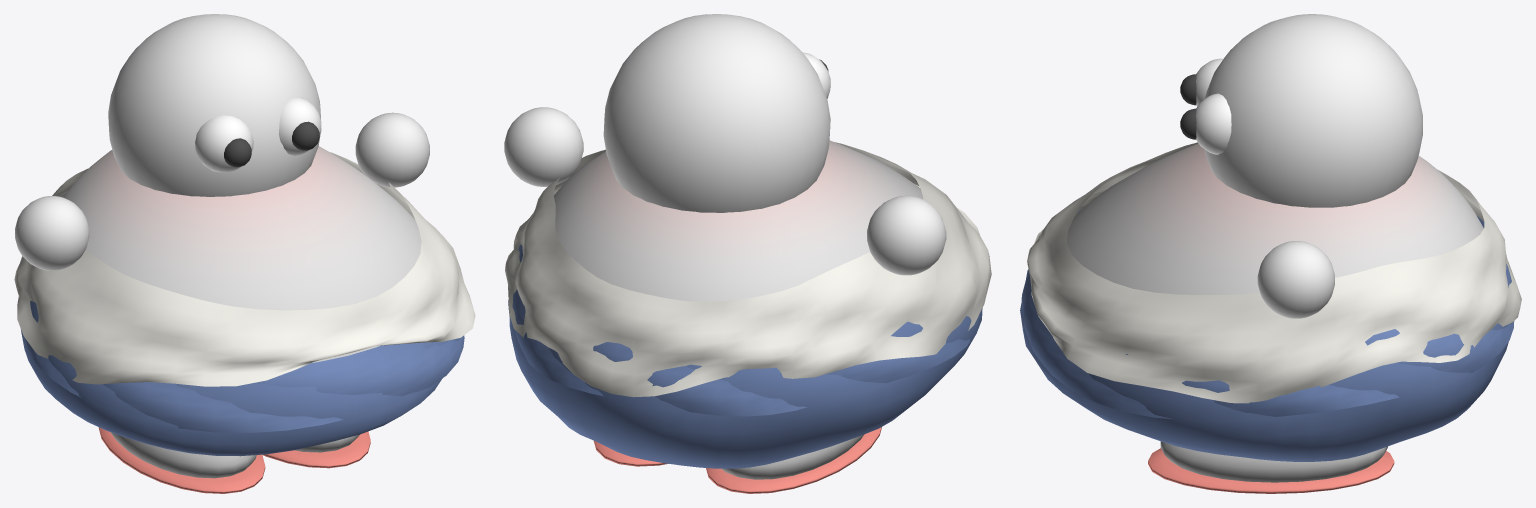
The model's file is blob_gumdrop_clay.glb.
The picture shows the model from 3 angles, left to right: view 1: azimuth 30°, elevation 25°; view 2: azimuth 150°, elevation 25°; view 3: azimuth 270°, elevation 25°; orthographic projection. The views are drawn at different scales.
Parts seen in each view (by area): view 1: Singlet, Torso, Head, Shorts_boardies, Shorts_stubbies, HandR, HandL, ThongL, FootL, EyeL, ThongR, EyeR (+2 smaller); view 2: Singlet, Head, Torso, Shorts_boardies, Shorts_stubbies, HandR, HandL, ThongL, FootL, ThongR; view 3: Singlet, Torso, Head, Shorts_boardies, Shorts_stubbies, HandL, FootR, ThongR, EyeR, EyeL.
Part boxes in pixels (box(x1,y1,x2,y2)): Singlet: box(14, 152, 475, 386); Torso: box(63, 146, 421, 362); Head: box(108, 14, 320, 196); Shorts_boardies: box(21, 300, 459, 456); Shorts_stubbies: box(23, 293, 464, 432); HandR: box(15, 196, 89, 270); HandL: box(355, 112, 429, 187); ThongL: box(98, 427, 265, 493); FootL: box(110, 432, 256, 478); EyeL: box(195, 115, 253, 172); ThongR: box(262, 431, 370, 468); EyeR: box(279, 97, 321, 155); Singlet: box(505, 142, 991, 397); Head: box(603, 14, 830, 212); Torso: box(554, 140, 923, 302); Shorts_boardies: box(509, 308, 982, 468); Shorts_stubbies: box(508, 244, 969, 416); HandR: box(867, 195, 946, 275); HandL: box(504, 107, 583, 186); ThongL: box(706, 427, 881, 493); FootL: box(722, 434, 864, 479); ThongR: box(593, 441, 668, 466); Singlet: box(1027, 142, 1521, 403); Torso: box(1067, 143, 1483, 294); Head: box(1204, 14, 1422, 207); Shorts_boardies: box(1020, 210, 1514, 461); Shorts_stubbies: box(1021, 216, 1513, 419); HandL: box(1257, 241, 1334, 318); FootR: box(1160, 441, 1387, 482); ThongR: box(1148, 448, 1394, 493); EyeR: box(1196, 93, 1231, 154); EyeL: box(1196, 58, 1223, 106).
Size of the model in its own units: 1.54 by 1.48 by 1.59.
